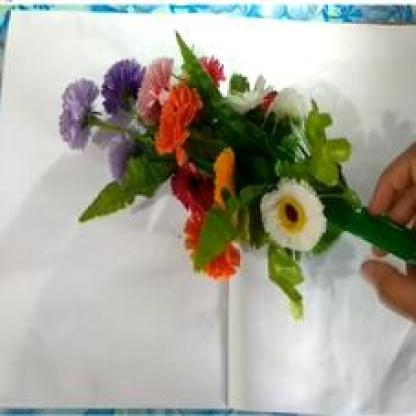flower: (45, 31, 369, 322)
